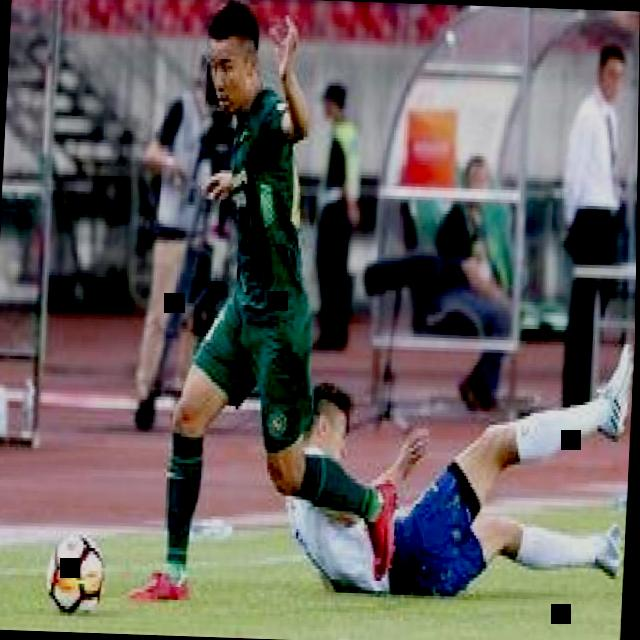Fall-Detected: (274, 302, 636, 605)
